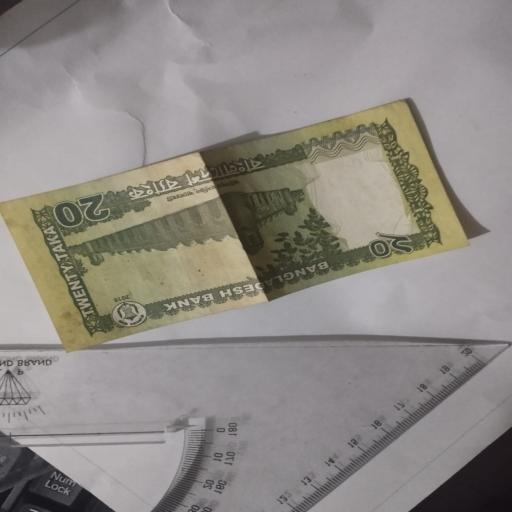20taka: (7, 98, 475, 354)
